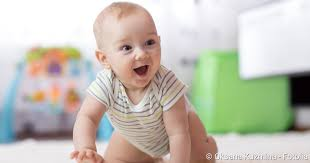child: (65, 1, 228, 163)
